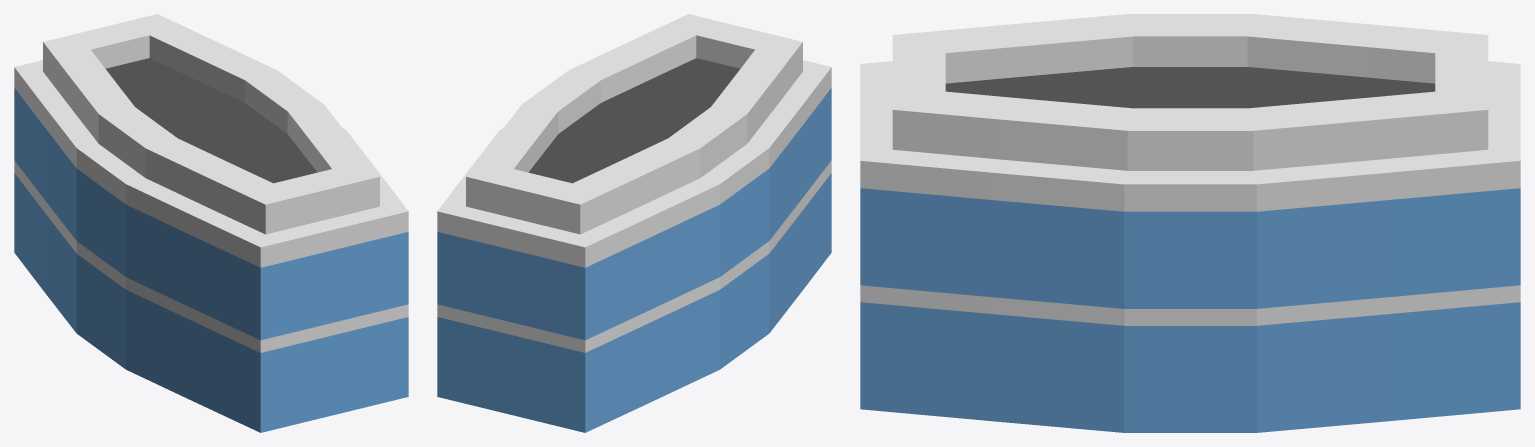
File: building_1x2_4_r.glb
3 renders of one model, left to right at view 1: azimuth 30°, elevation 25°; view 2: azimuth 150°, elevation 25°; view 3: azimuth 270°, elevation 25°, orthographic. The views are drawn at different scales.
Visible parts, largest first — view 1: Cube.002; view 2: Cube.002; view 3: Cube.002.
Part boxes in pixels (x1=…): Cube.002: x1=14, y1=14, x2=408, y2=432; Cube.002: x1=437, y1=14, x2=831, y2=432; Cube.002: x1=860, y1=14, x2=1520, y2=432.
Size of the model in its own units: 1.83 by 1.71 by 3.55.
